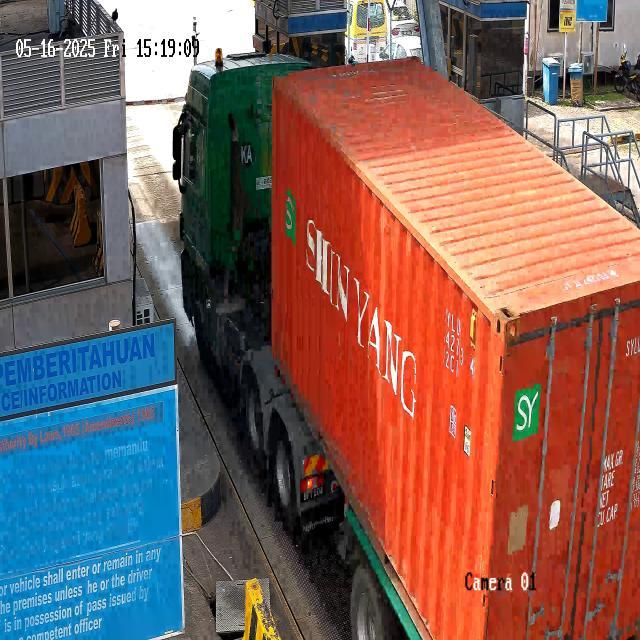ISO: (438, 346, 464, 392)
container_number: (438, 300, 489, 380)
